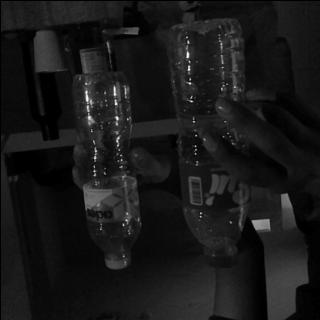plastic_bottles: (164, 21, 246, 268), (64, 64, 140, 268)
